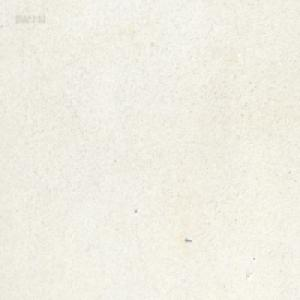Nail: (185, 237, 192, 242)
